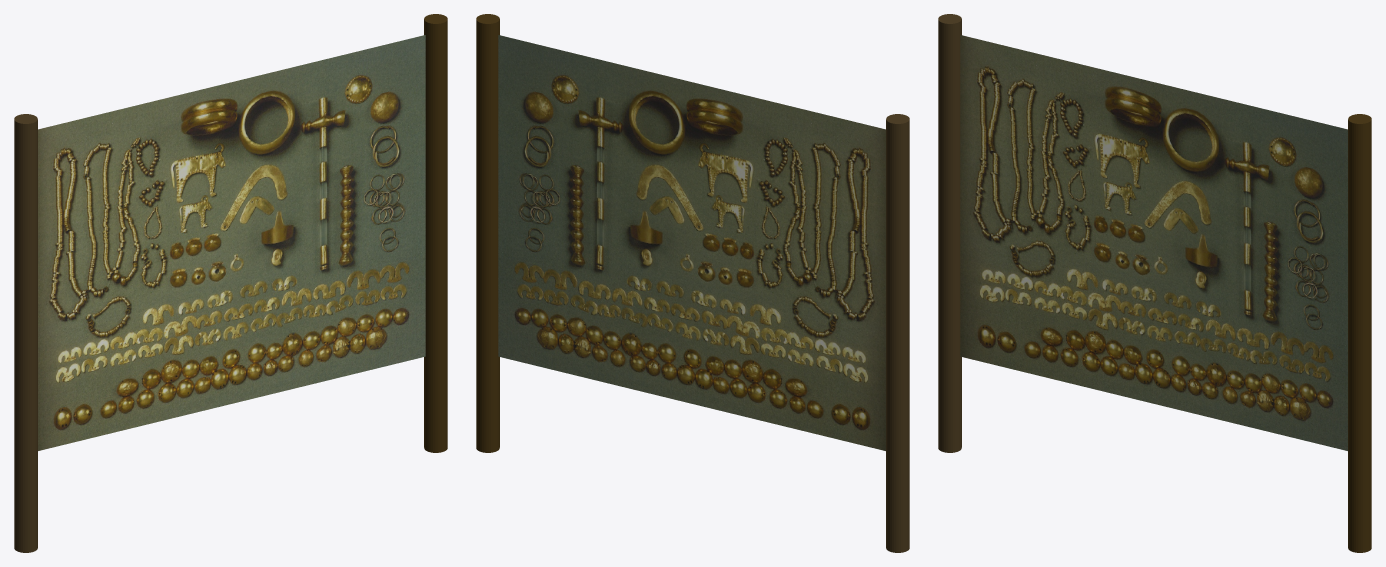
The model's file is Funfact_Bulgaria.glb.
3 renders of one model, left to right at view 1: azimuth 30°, elevation 25°; view 2: azimuth 150°, elevation 25°; view 3: azimuth 330°, elevation 25°, orthographic.
Parts seen in each view (by area): view 1: Plane, Cylinder, Cylinder.001; view 2: Plane, Cylinder, Cylinder.001; view 3: Plane, Cylinder.001, Cylinder.
Boxes of the visible parts, x1,y1,x2,y2 form: Plane: (38, 35, 425, 450); Cylinder: (14, 114, 37, 552); Cylinder.001: (424, 14, 447, 452); Plane: (498, 35, 885, 450); Cylinder: (886, 114, 909, 552); Cylinder.001: (476, 14, 499, 452); Plane: (960, 35, 1347, 450); Cylinder.001: (1348, 114, 1371, 552); Cylinder: (938, 14, 961, 452).
Size of the model in its own units: 4.2 by 4 by 0.2.
3 materials, 1 textured.
